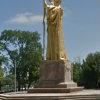Statue: (34, 1, 74, 73)
